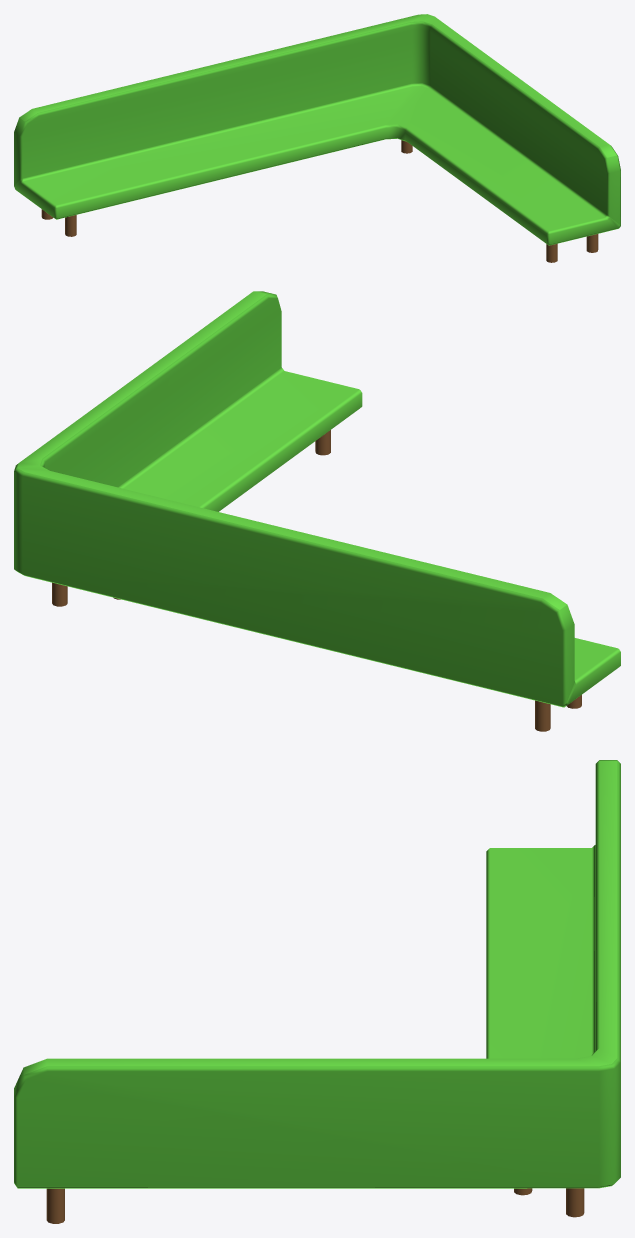
The model's file is Bench_Corner_NEW.fbx.
3 views of the same model, one above another, from view 1: azimuth 30°, elevation 25°; view 2: azimuth 150°, elevation 25°; view 3: azimuth 270°, elevation 25° (orthographic). The views are drawn at different scales.
Parts seen in each view (by area): view 1: Bench_Corner_NEW; view 2: Bench_Corner_NEW; view 3: Bench_Corner_NEW.
Boxes of the visible parts, left/top/right/bottom form: Bench_Corner_NEW: left=14, top=14, right=620, bottom=262; Bench_Corner_NEW: left=14, top=291, right=620, bottom=731; Bench_Corner_NEW: left=14, top=760, right=620, bottom=1223.
Bounding box in the file's own units: 500 × 120 × 400.
